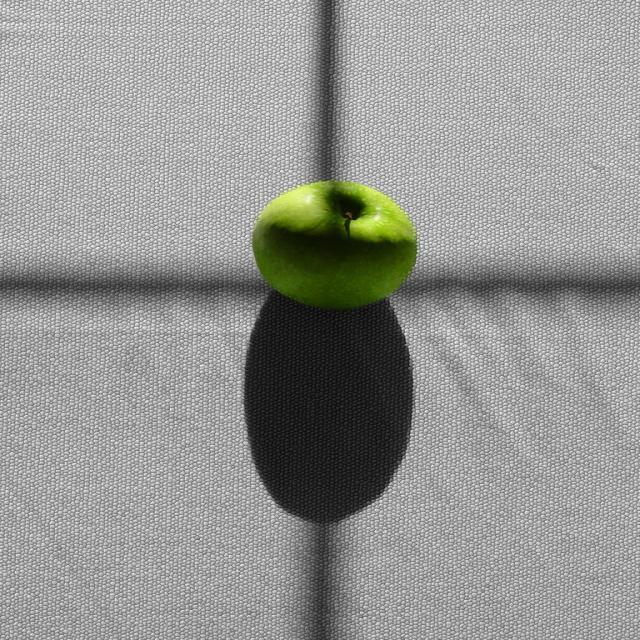Apple pie: (255, 173, 421, 305)
